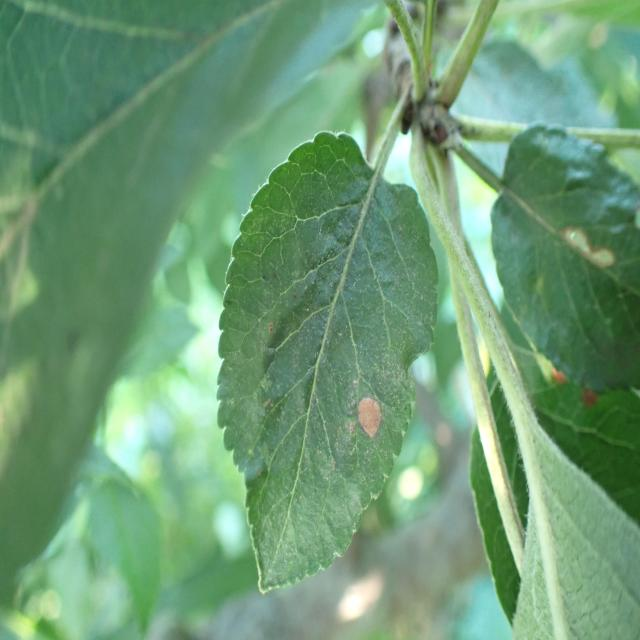Black Rot: (555, 218, 627, 281), (344, 391, 394, 459), (534, 351, 576, 402), (579, 381, 597, 417)
